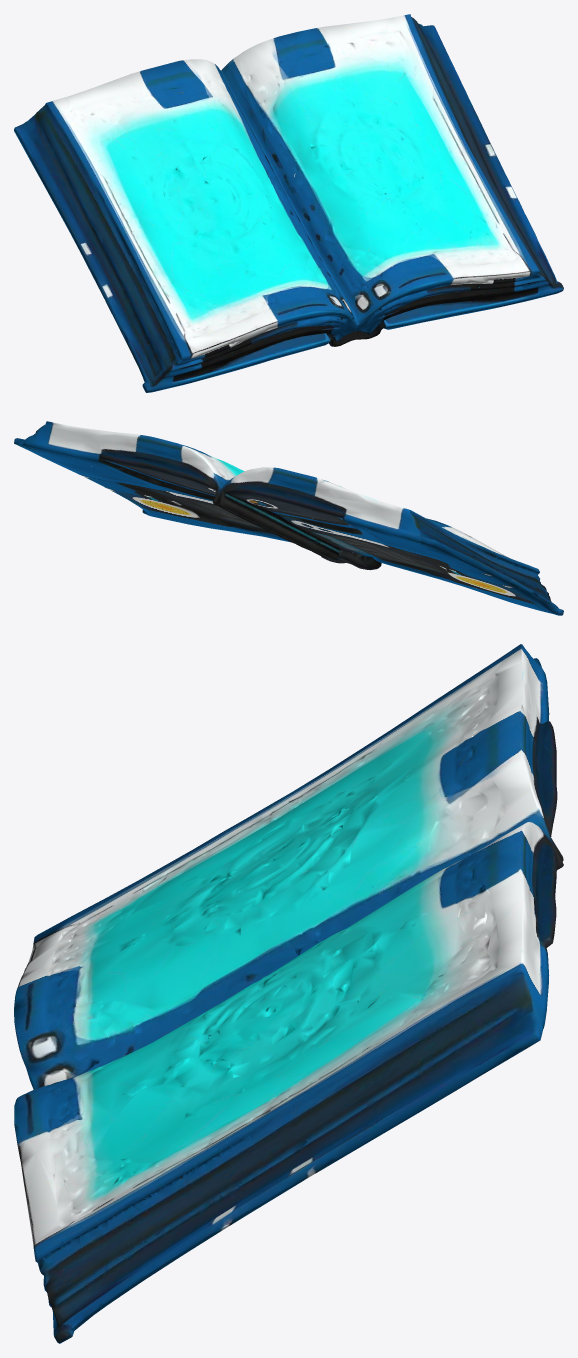
The model's file is npc_pronunciation_robot.glb.
The picture shows the model from 3 angles, top to bottom: view 1: azimuth 30°, elevation 25°; view 2: azimuth 150°, elevation 25°; view 3: azimuth 270°, elevation 25°; orthographic projection. The views are drawn at different scales.
Parts seen in each view (by area): view 1: Mesh_0; view 2: Mesh_0; view 3: Mesh_0.
Boxes of the visible parts, x1,y1,x2,y2 form: Mesh_0: (14,14,563,392); Mesh_0: (14,421,563,615); Mesh_0: (14,644,563,1343).
Size of the model in its own units: 0.5432 by 0.25 by 0.3357.
Materials: 1 (1 with a texture image).
